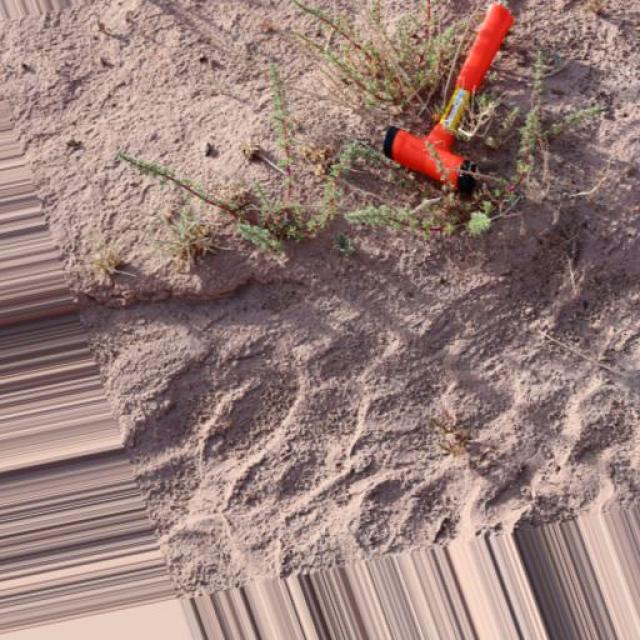mallet: (381, 0, 515, 194)
